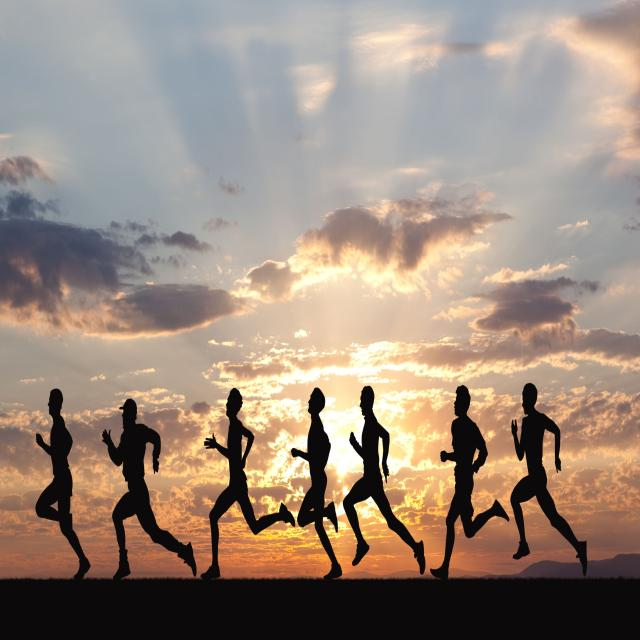Person: (201, 386, 296, 577), (102, 398, 197, 578), (430, 384, 510, 583), (343, 386, 426, 573), (510, 383, 588, 574), (35, 388, 90, 580), (291, 386, 342, 578)
